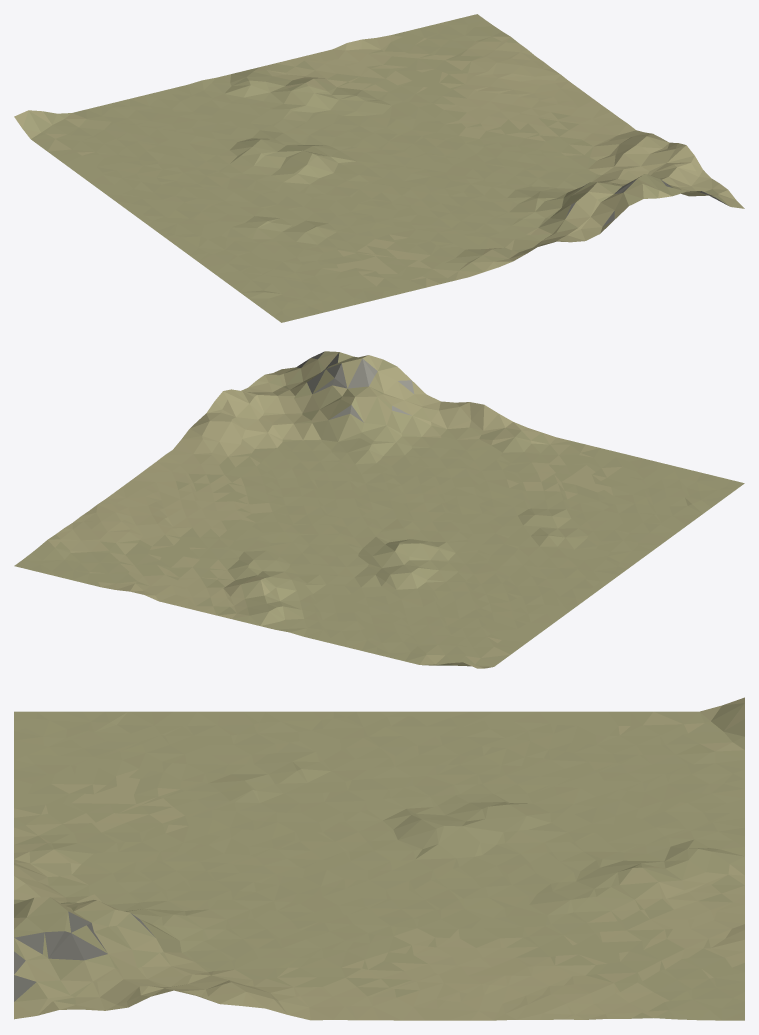
File: Ground_-2_-6.glb
3 views of the same model, one above another, from view 1: azimuth 30°, elevation 25°; view 2: azimuth 150°, elevation 25°; view 3: azimuth 270°, elevation 25° (orthographic). The views are drawn at different scales.
Visible parts, largest first — view 1: Ground_-2_-6; view 2: Ground_-2_-6; view 3: Ground_-2_-6.
Boxes of the visible parts, <box> form: Ground_-2_-6: <box>14,14,744,322</box>; Ground_-2_-6: <box>14,351,744,668</box>; Ground_-2_-6: <box>14,697,744,1020</box>.
Bounding box in the file's own units: 768 × 70.58 × 768.
